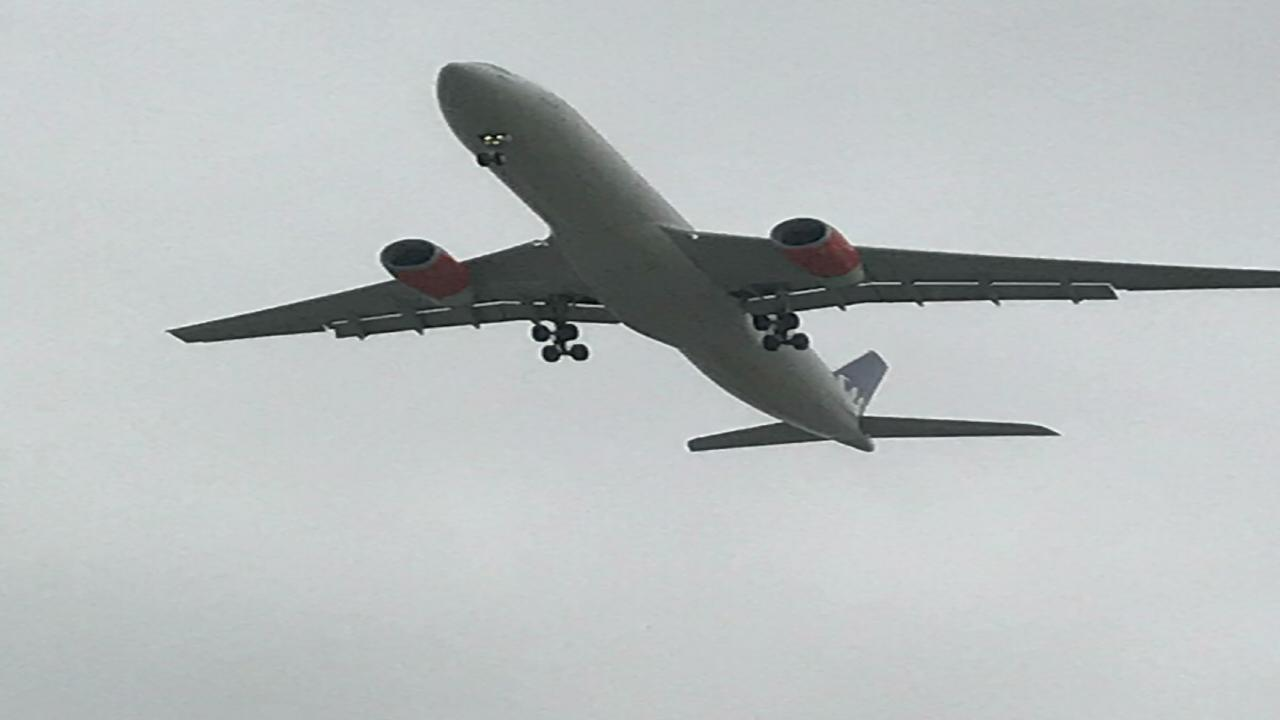Airplane: (140, 53, 1280, 469)
